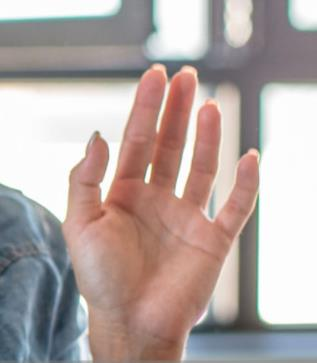down: (56, 58, 267, 331)
